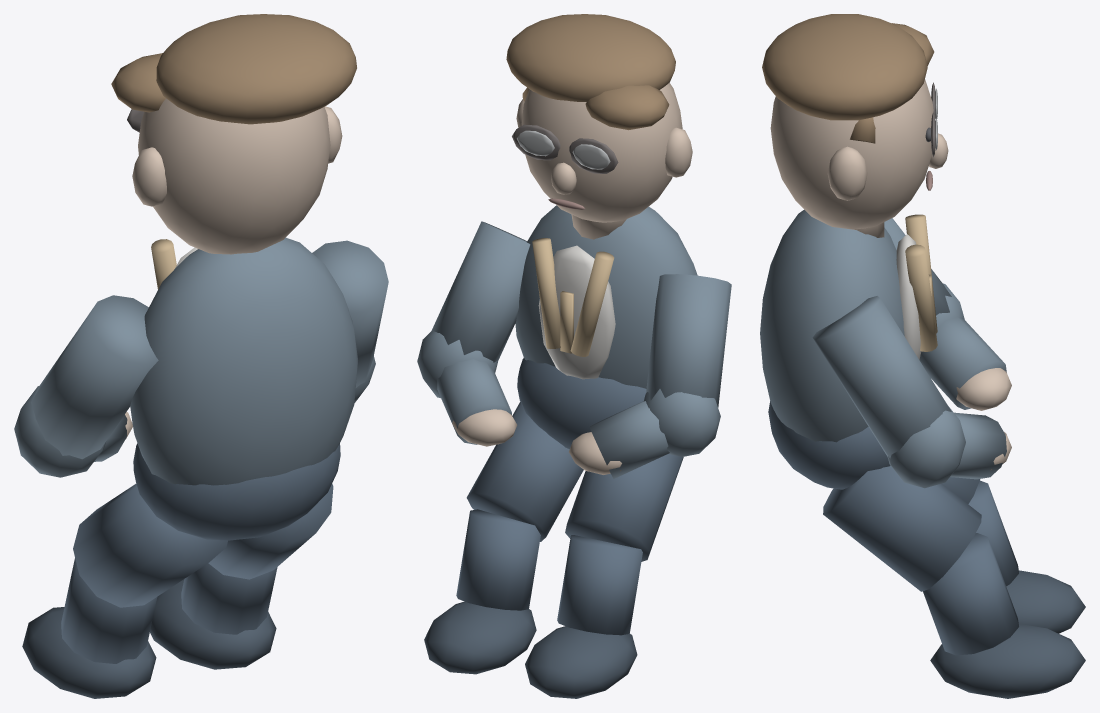
Rendered from f3b-agent-4.glb.
3 views of the same model, side by side, from view 1: azimuth 30°, elevation 25°; view 2: azimuth 150°, elevation 25°; view 3: azimuth 270°, elevation 25° (orthographic). The views are drawn at different scales.
Parts seen in each view (by area): view 1: f3b-agent-4-01, f3b-agent-4-07, f3b-agent-4-14, f3b-agent-4-17, f3b-agent-4-21, f3b-agent-4-00, f3b-agent-4-23, f3b-agent-4-22, f3b-agent-4-30, f3b-agent-4-24, f3b-agent-4-29, f3b-agent-4-28 (+6 smaller); view 2: f3b-agent-4-01, f3b-agent-4-14, f3b-agent-4-07, f3b-agent-4-17, f3b-agent-4-24, f3b-agent-4-28, f3b-agent-4-21, f3b-agent-4-22, f3b-agent-4-29, f3b-agent-4-00, f3b-agent-4-30, f3b-agent-4-23 (+18 smaller); view 3: f3b-agent-4-01, f3b-agent-4-14, f3b-agent-4-07, f3b-agent-4-28, f3b-agent-4-24, f3b-agent-4-29, f3b-agent-4-30, f3b-agent-4-00, f3b-agent-4-19, f3b-agent-4-25, f3b-agent-4-23, f3b-agent-4-26 (+9 smaller).
Boxes of the visible parts, <box> form: f3b-agent-4-01: <box>130,237,357,485</box>; f3b-agent-4-07: <box>138,98,330,254</box>; f3b-agent-4-14: <box>156,14,356,124</box>; f3b-agent-4-17: <box>31,295,158,459</box>; f3b-agent-4-21: <box>73,484,227,607</box>; f3b-agent-4-00: <box>133,443,340,540</box>; f3b-agent-4-23: <box>22,607,156,698</box>; f3b-agent-4-22: <box>61,558,157,663</box>; f3b-agent-4-30: <box>150,579,276,669</box>; f3b-agent-4-24: <box>312,240,388,387</box>; f3b-agent-4-29: <box>181,563,277,634</box>; f3b-agent-4-28: <box>208,483,333,579</box>; f3b-agent-4-01: <box>515,205,697,388</box>; f3b-agent-4-14: <box>506,14,675,101</box>; f3b-agent-4-07: <box>521,83,682,222</box>; f3b-agent-4-17: <box>646,274,731,407</box>; f3b-agent-4-24: <box>431,221,530,362</box>; f3b-agent-4-28: <box>466,402,583,541</box>; f3b-agent-4-21: <box>565,454,683,561</box>; f3b-agent-4-22: <box>557,535,642,635</box>; f3b-agent-4-29: <box>456,509,540,610</box>; f3b-agent-4-00: <box>517,358,646,448</box>; f3b-agent-4-30: <box>424,601,536,674</box>; f3b-agent-4-23: <box>525,626,637,698</box>; f3b-agent-4-01: <box>760,209,904,442</box>; f3b-agent-4-14: <box>762,14,927,120</box>; f3b-agent-4-07: <box>770,79,933,229</box>; f3b-agent-4-28: <box>823,466,981,591</box>; f3b-agent-4-24: <box>812,296,951,458</box>; f3b-agent-4-29: <box>923,533,1018,655</box>; f3b-agent-4-30: <box>930,624,1085,698</box>; f3b-agent-4-00: <box>768,401,890,489</box>; f3b-agent-4-19: <box>919,317,1006,409</box>; f3b-agent-4-25: <box>887,406,965,488</box>; f3b-agent-4-23: <box>1006,570,1085,633</box>; f3b-agent-4-26: <box>950,412,1006,479</box>.
Size of the model in its own units: 1.11 by 2.12 by 0.979.
